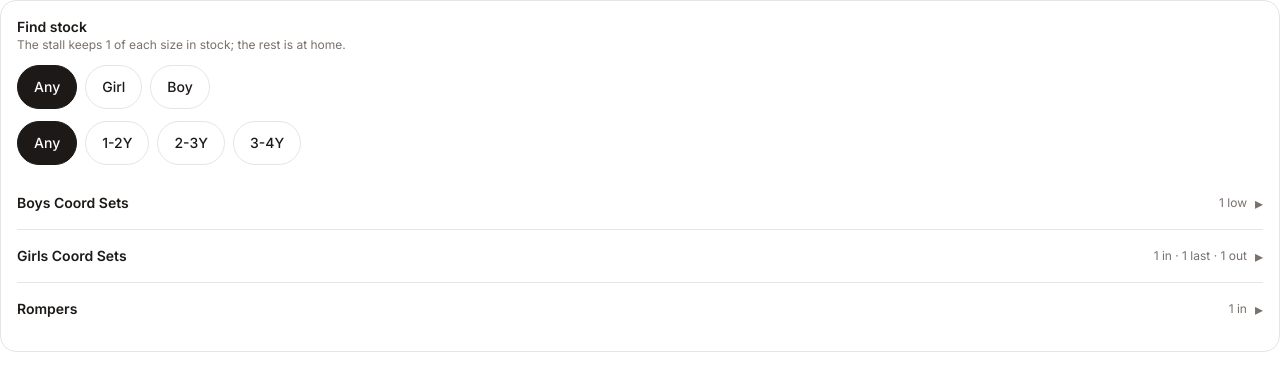
it: StockFinder › filters to girl and unisex products for Girl
Click the radio button labelled "Girl".
click(114, 87)  # box [85,65,142,109]
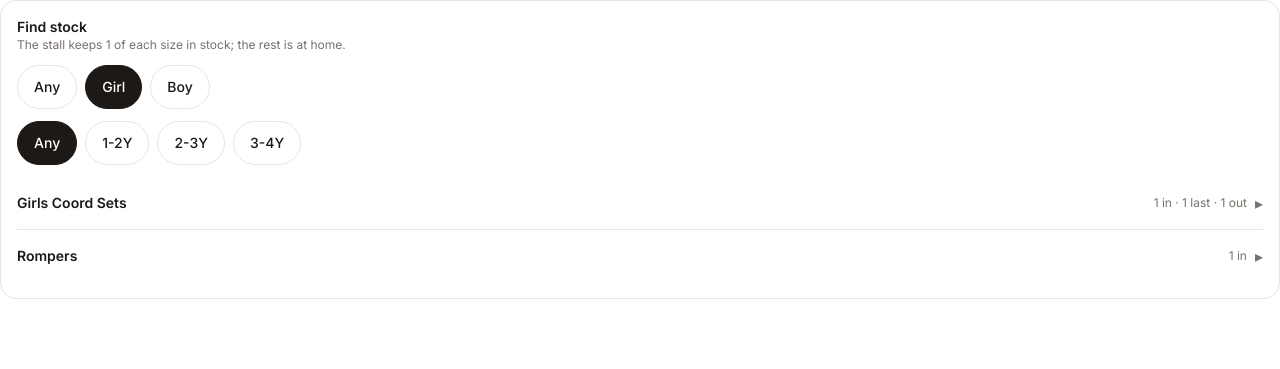
Expected: the button "Girls Coord Sets 1 in · 1 last · 1 out ▸" is shown, [17,181,1263,225]
Result: the button "Boys Coord Sets" is gone
